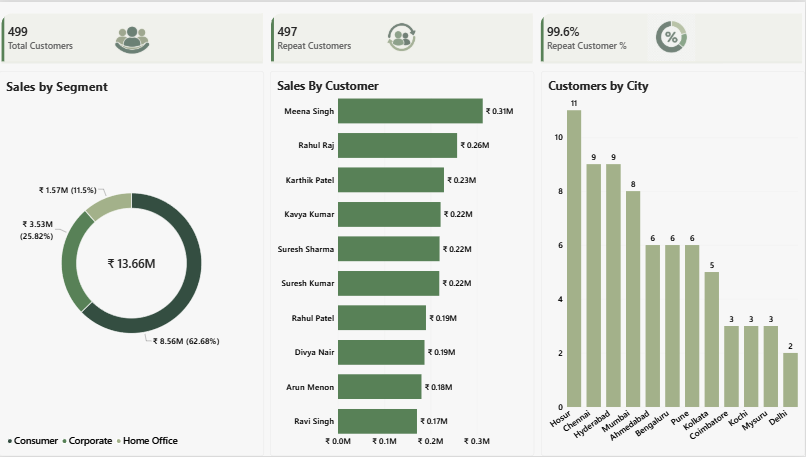

The dashboard page shown, as its layout file describes it:
{"tool":"powerbi","page":{"name":"Customer Insights","canvas":[1920,1080],"ordinal":2},"visuals":[{"type":"cardVisual","fields":{"Data":["_Measures.Total Customers","_Measures.Repeat Customers","_Measures.Repeat Customer %"]},"box":[0,21.4,1919,126.2],"z":0},{"type":"donutChart","title":"Sales by Segment","fields":{"Category":["customers.Segment"],"Y":["_Measures.Total Sales"]},"box":[0,164.3,631,916.7],"z":1000},{"type":"clusteredBarChart","title":"Sales By Customer","fields":{"Category":["customers.CustomerName"],"Y":["_Measures.Total Sales"]},"box":[645.2,164.3,628.6,916.7],"z":2000},{"type":"clusteredColumnChart","title":"Customers by City","fields":{"Category":["customers.City"],"Y":["_Measures.Total Customers"]},"box":[1290.5,164.3,628.6,916.7],"z":3000}]}

Visuals, with their boxes in screenshot pixels (x1, y1, x2, y2), scaled from the page's 1920x1080 canvas onto the 806x457 screenshot:
cardVisual - _Measures.Total Customers x _Measures.Repeat Customers: {"left": 0, "top": 9, "right": 805, "bottom": 62}
"Sales by Segment" donutChart: {"left": 0, "top": 70, "right": 265, "bottom": 456}
"Sales By Customer" clusteredBarChart: {"left": 271, "top": 70, "right": 535, "bottom": 456}
"Customers by City" clusteredColumnChart: {"left": 542, "top": 70, "right": 805, "bottom": 456}
